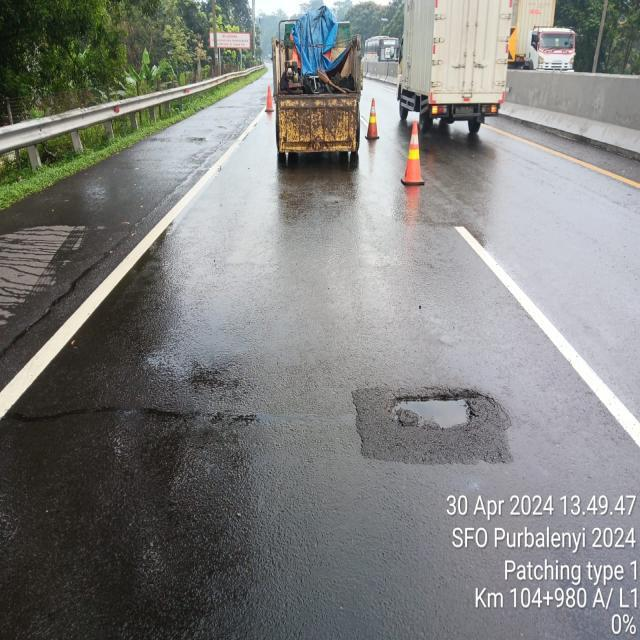Buraco: (384, 387, 483, 433)
